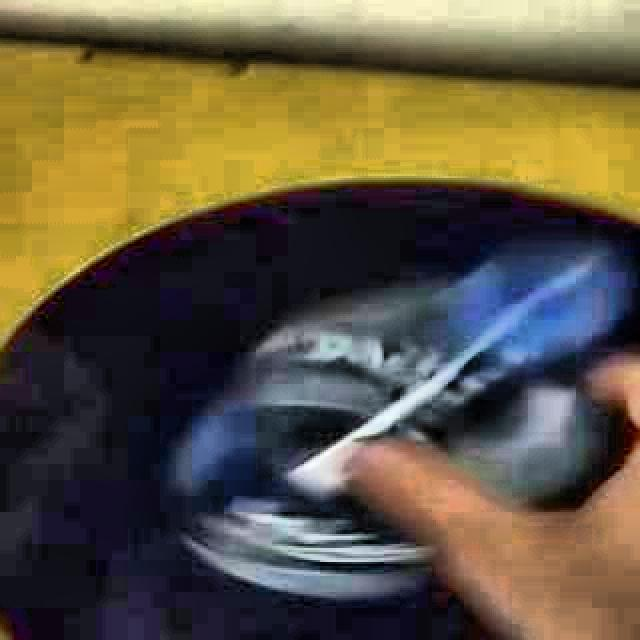plastic: (176, 238, 635, 600)
